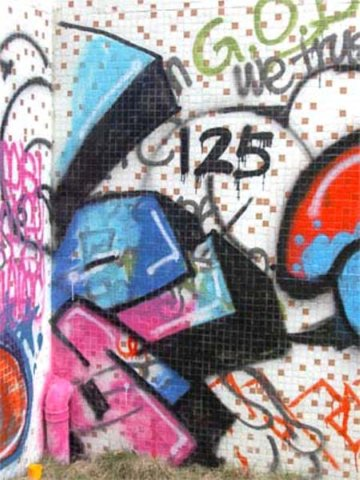graffity: (53, 18, 289, 469), (263, 125, 360, 357), (186, 1, 360, 119), (205, 359, 360, 467), (1, 101, 31, 471), (171, 123, 283, 191)
